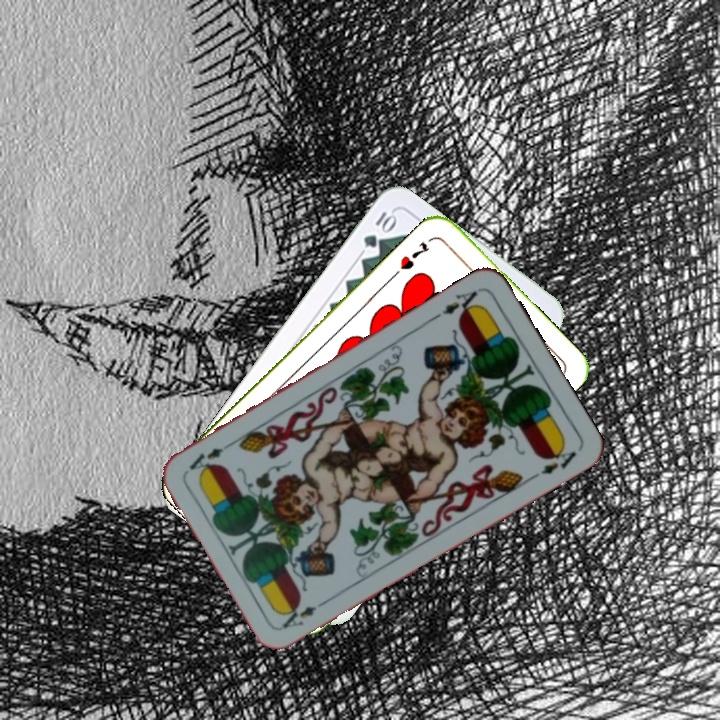EA: (430, 284, 483, 322), (277, 595, 331, 632)
G10: (359, 207, 400, 250)
H7: (396, 237, 433, 273)
